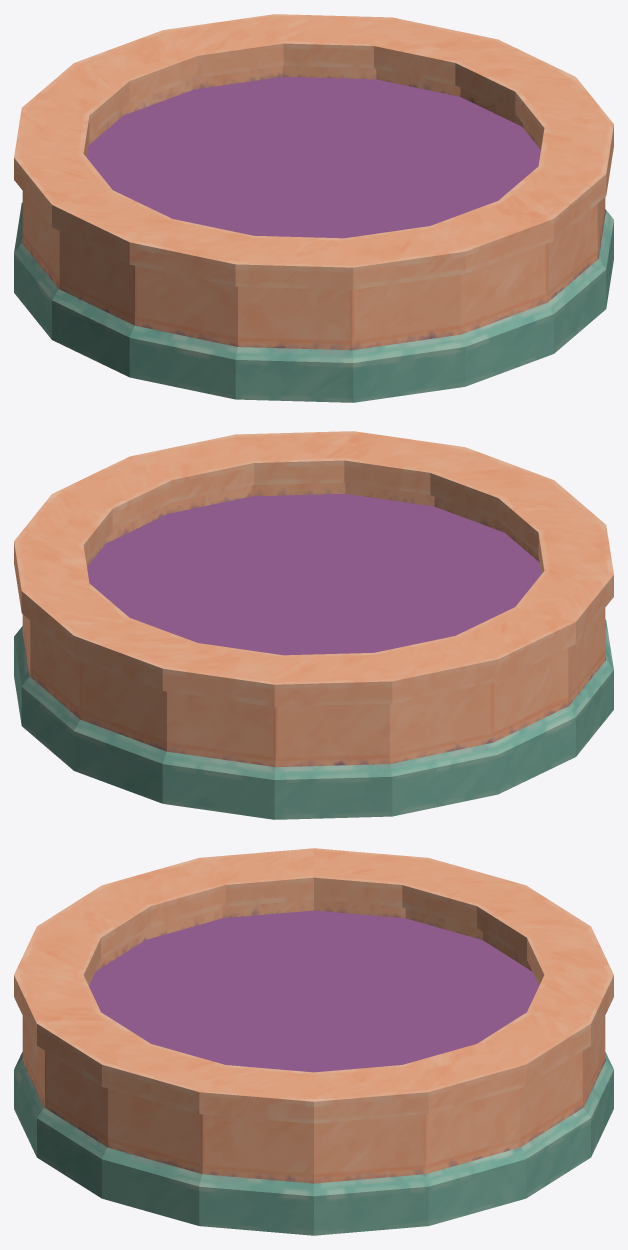
Rendered from vat_plum.fbx.
The picture shows the model from 3 angles, top to bottom: view 1: azimuth 30°, elevation 25°; view 2: azimuth 150°, elevation 25°; view 3: azimuth 270°, elevation 25°; orthographic projection.
Visible parts, largest first — view 1: vat_plum; view 2: vat_plum; view 3: vat_plum.
Part boxes in pixels (box(x1,y1,x2,y2)): vat_plum: box(14, 14, 613, 402); vat_plum: box(14, 431, 613, 819); vat_plum: box(14, 848, 613, 1235).
Size of the model in its own units: 6.9 by 1.7 by 6.9.
Materials: 1 (1 with a texture image).
